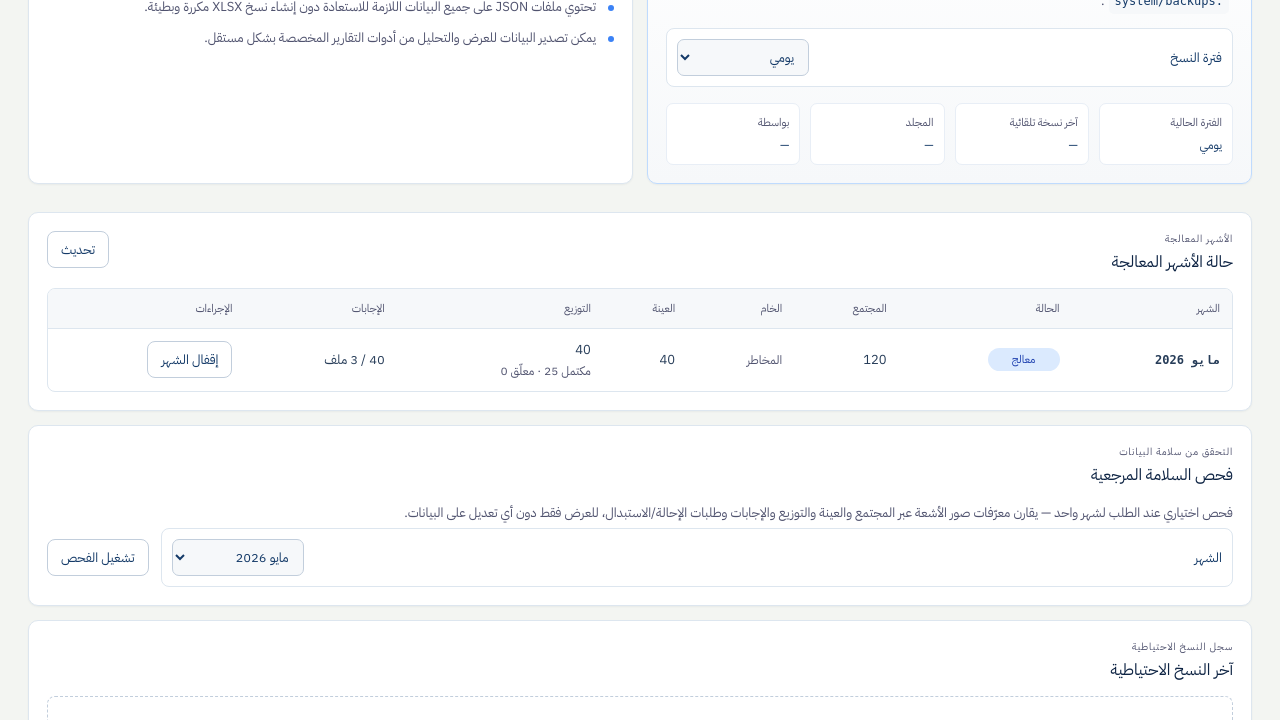
Test case: Archive close-month confirm — pending count interpolation (P2-1) › omits the pending warning when distributionPending is 0
(page scrolled)
Step 1. Click the button "إقفال الشهر" → (190, 360), box 148,341 -> 232,378
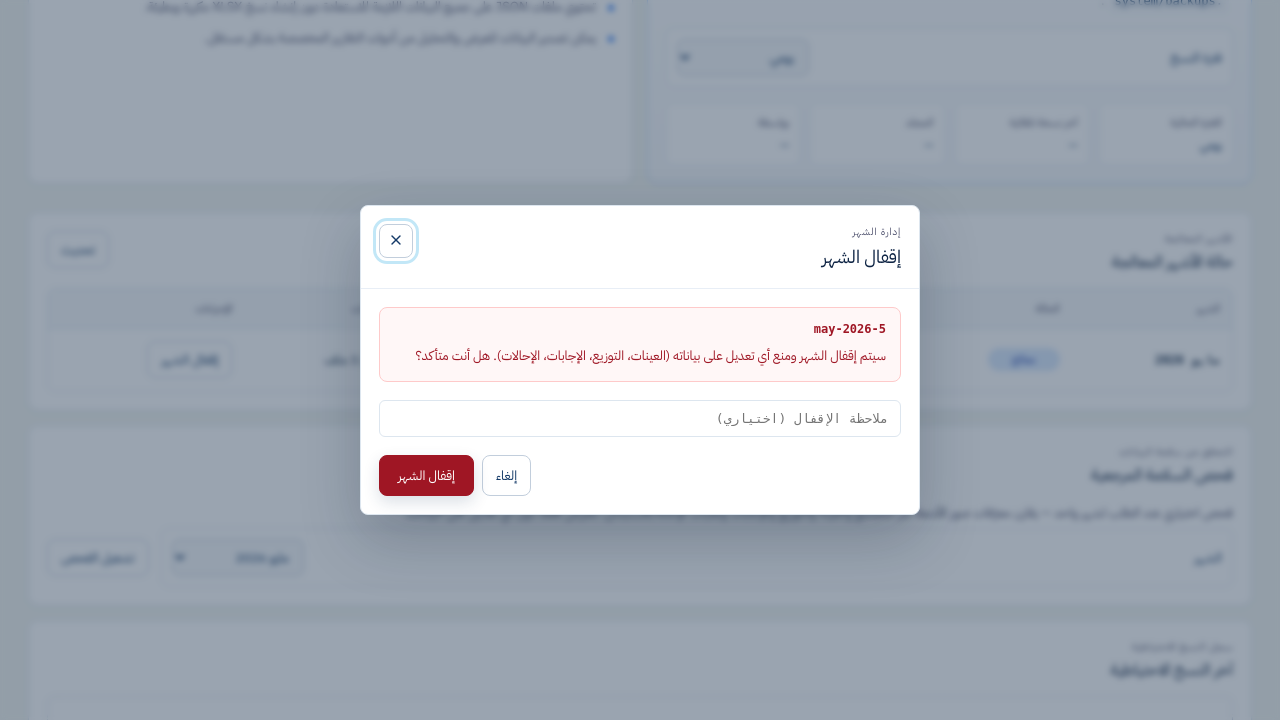
Result: the text "سيتم إقفال الشهر ومنع أي تعديل على بياناته (العينات، التوزيع، الإجابات، الإحالات). هل أنت متأكد؟" is shown at 416,346 -> 886,365
